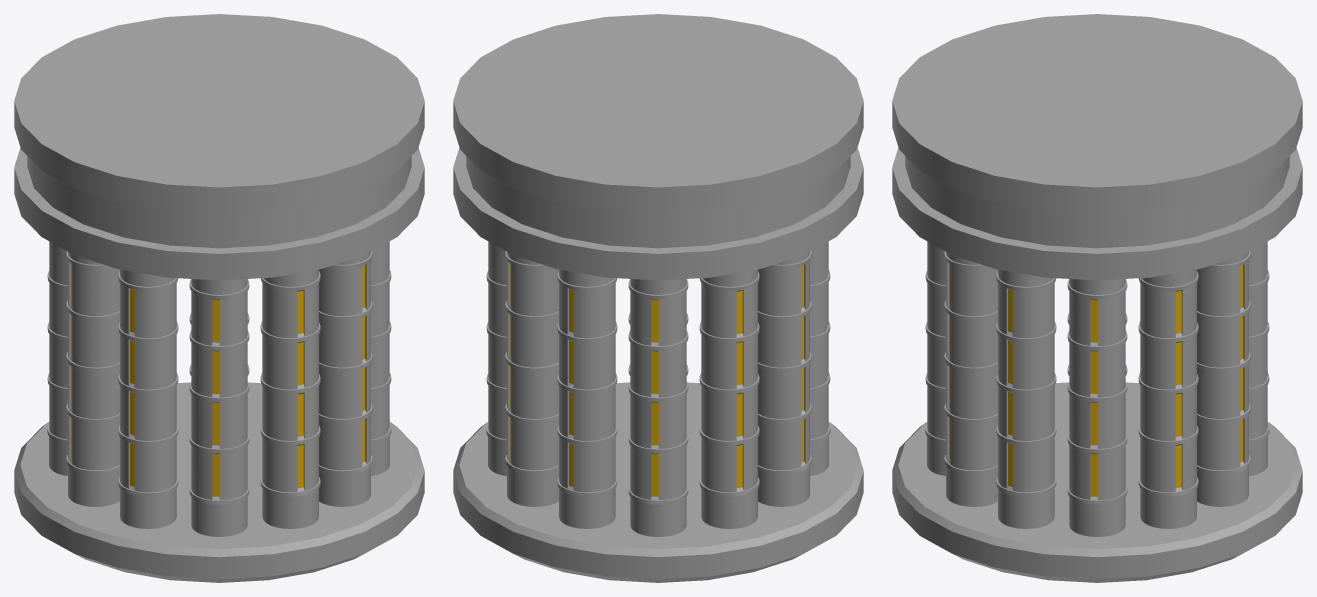
Rendered from Joe_Weapon_GreLauncherFrontMesh.fbx.
The picture shows the model from 3 angles, left to right: view 1: azimuth 30°, elevation 25°; view 2: azimuth 150°, elevation 25°; view 3: azimuth 270°, elevation 25°; orthographic projection.
Parts seen in each view (by area): view 1: polySurface882; view 2: polySurface882; view 3: polySurface882.
Boxes of the visible parts, x1=… form: polySurface882: x1=14, y1=14, x2=424, y2=582; polySurface882: x1=453, y1=14, x2=863, y2=582; polySurface882: x1=892, y1=14, x2=1302, y2=582.
Bounding box in the file's own units: 25.25 × 28.58 × 25.25.
